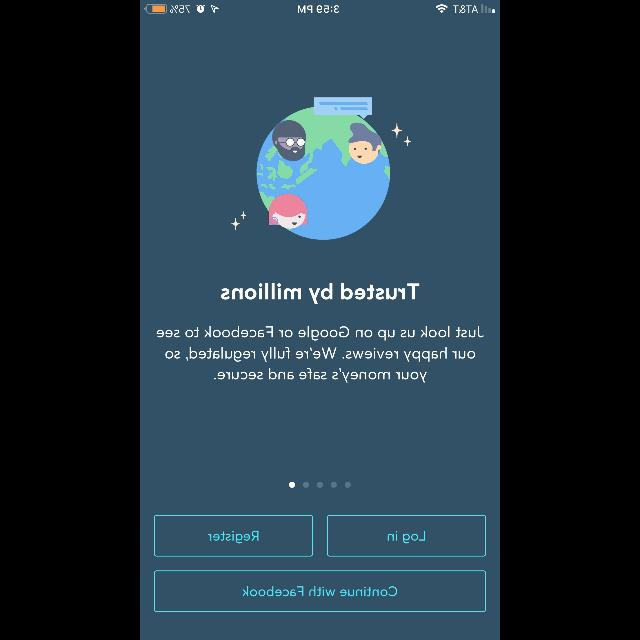image: (231, 98, 411, 240)
pageindicator: (289, 482, 351, 488)
text: (156, 326, 484, 382), (221, 283, 419, 305)
textbutton: (154, 570, 486, 612), (326, 515, 486, 557), (154, 515, 312, 557)
uppertaskbar: (140, 0, 500, 14)
